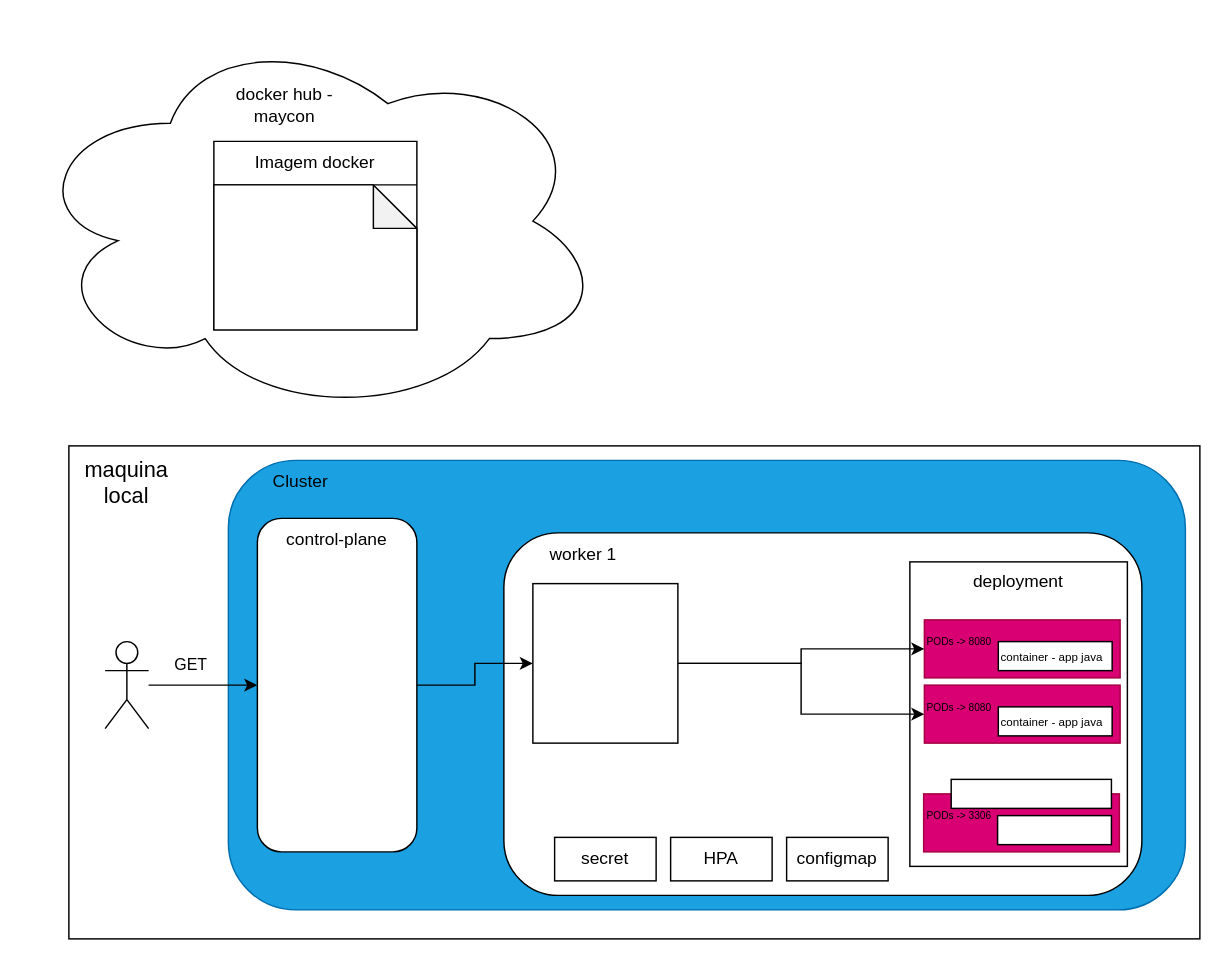
Image size: 1225x964. Some labels were removed from this diagram. Each missing label, with the centre of its shape:
"Actor" goes at (x=126, y=684).
"container - mariaDb" goes at (x=1053, y=829).
"java-app.jar" goes at (x=314, y=256).
"service C lusterIp -> 3306" goes at (x=1030, y=793).
"service worker -> 30080" goes at (x=604, y=662).
